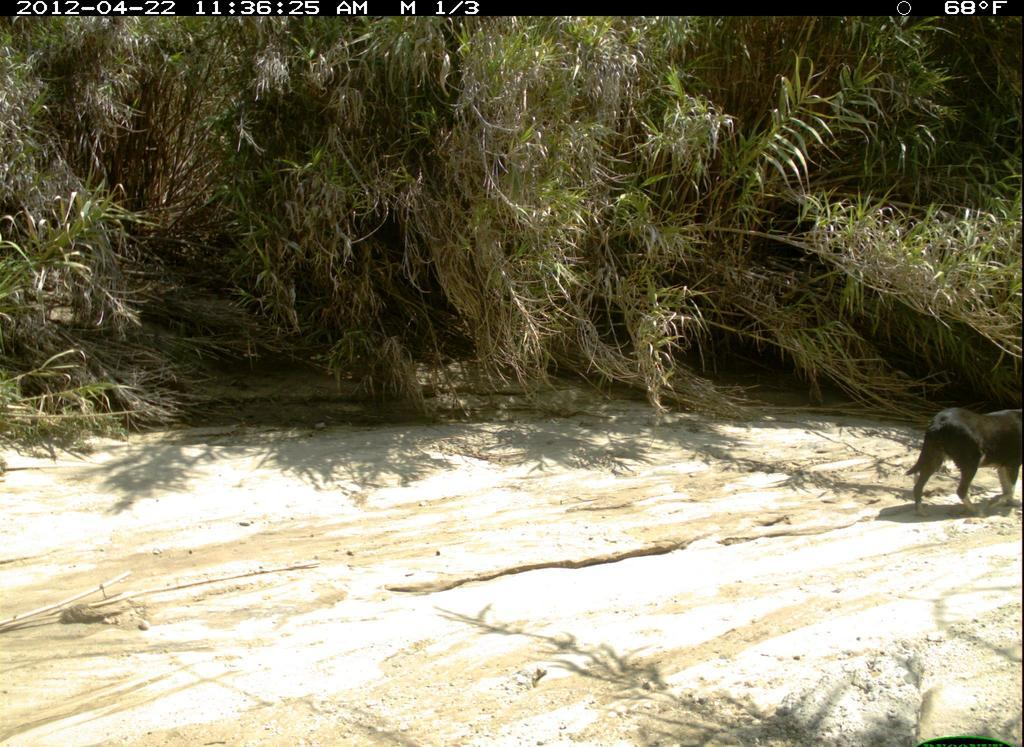dog: (902, 399, 1022, 515)
